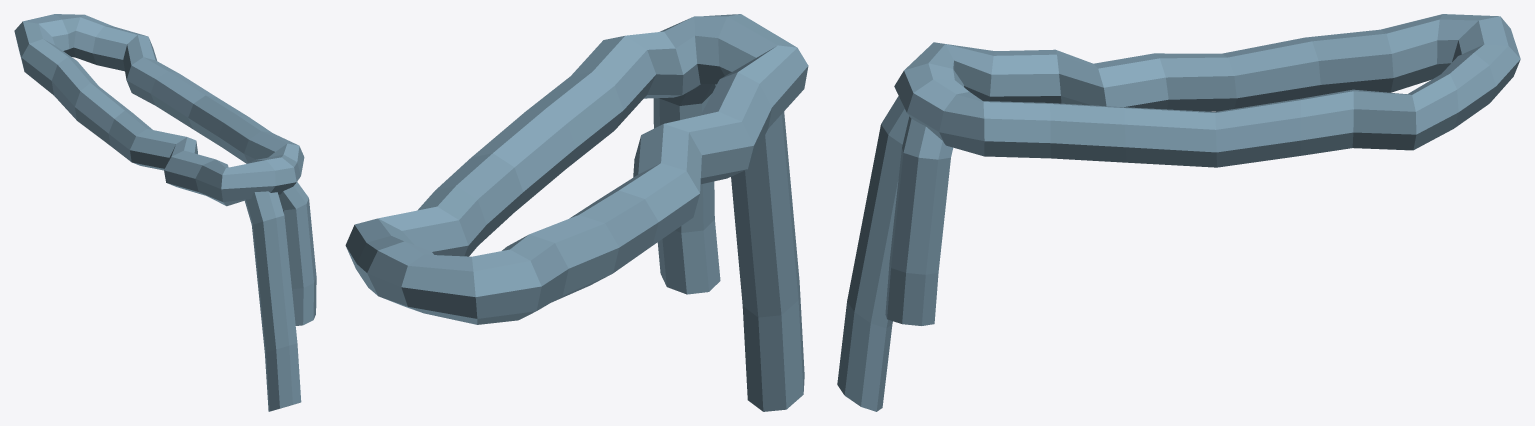
File: Bedroom_Tie_Curtains.fbx
3 renders of one model, left to right at view 1: azimuth 30°, elevation 25°; view 2: azimuth 150°, elevation 25°; view 3: azimuth 270°, elevation 25°, orthographic. The views are drawn at different scales.
Parts seen in each view (by area): view 1: Bedroom_Tie_Curtains; view 2: Bedroom_Tie_Curtains; view 3: Bedroom_Tie_Curtains.
Boxes of the visible parts, x1,y1,x2,y2 form: Bedroom_Tie_Curtains: (14, 14, 316, 411); Bedroom_Tie_Curtains: (345, 14, 808, 411); Bedroom_Tie_Curtains: (837, 14, 1520, 411).
Bounding box in the file's own units: 36.3 × 67.57 × 116.
